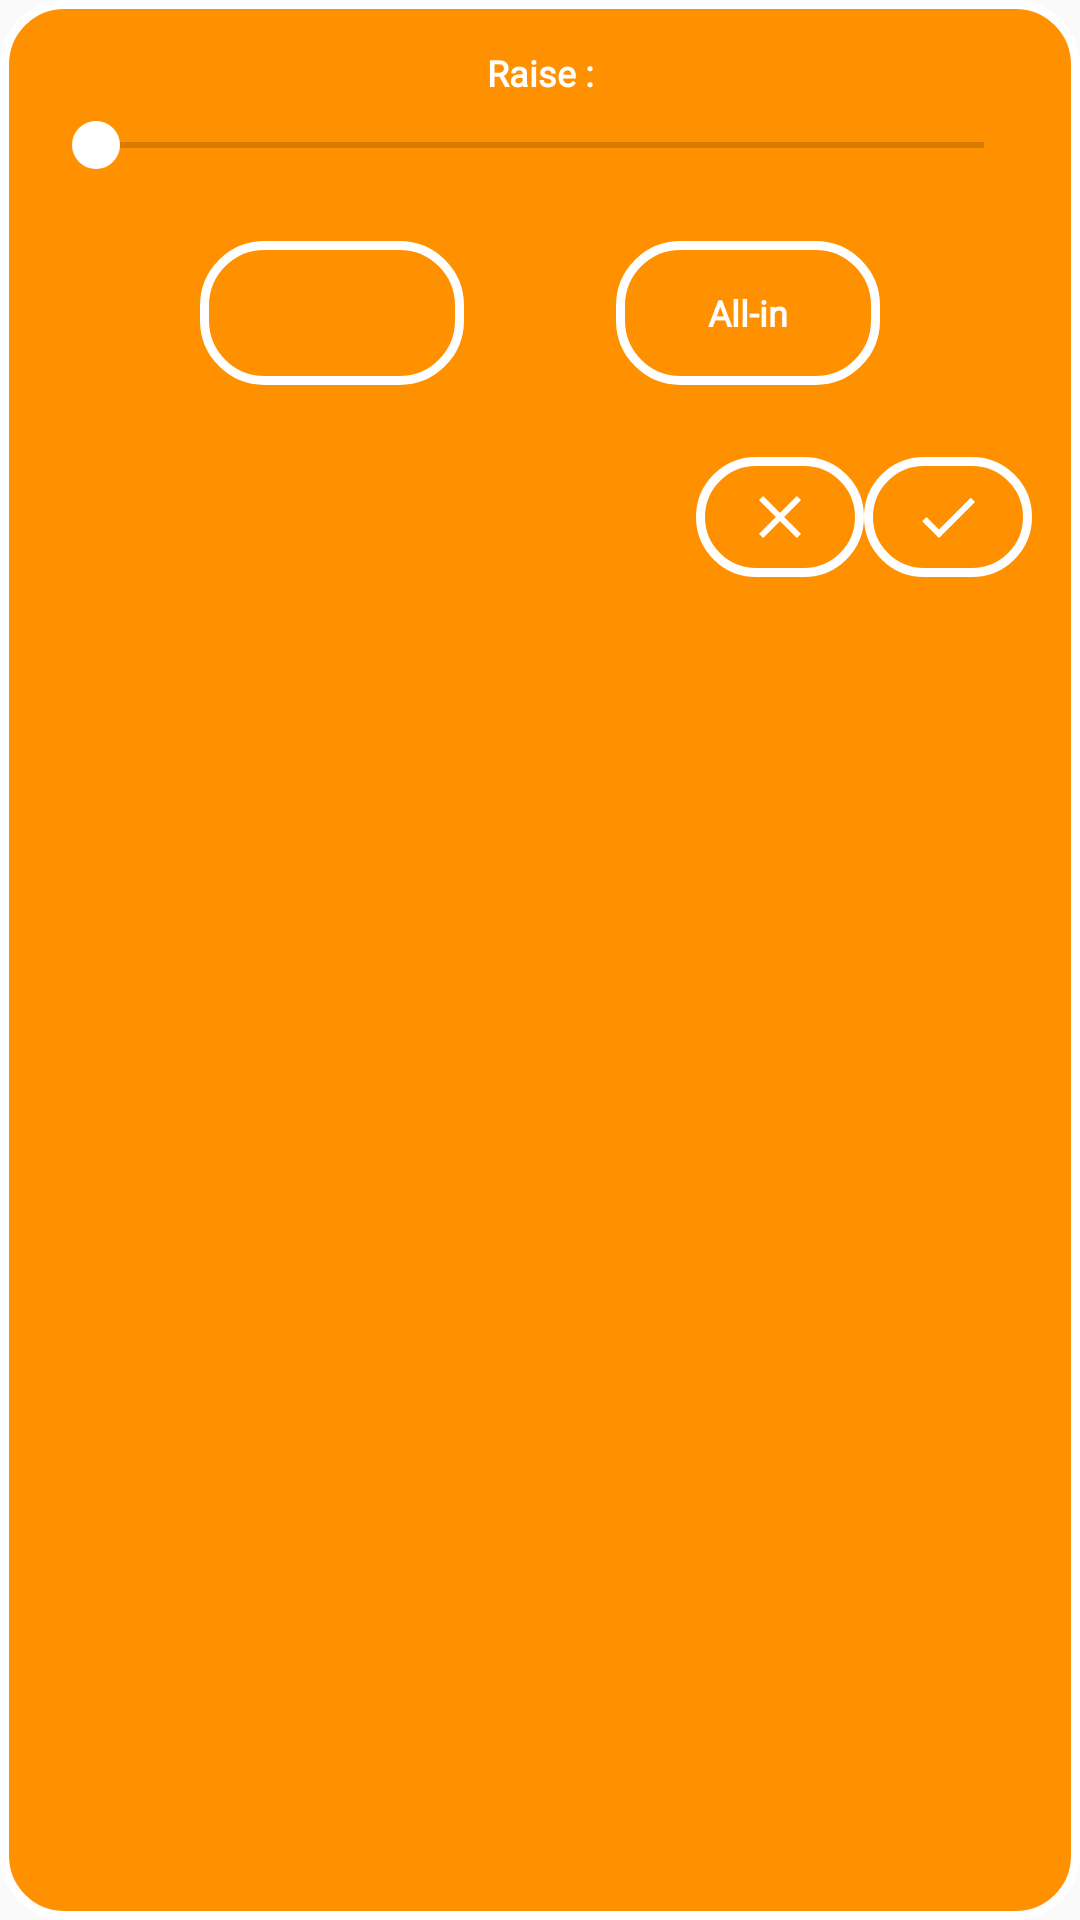

Screen size 1080px×1920px. Icon name, then its center in pixels as (x=x, y=y):
check: (x=948, y=517)
close: (x=780, y=517)
